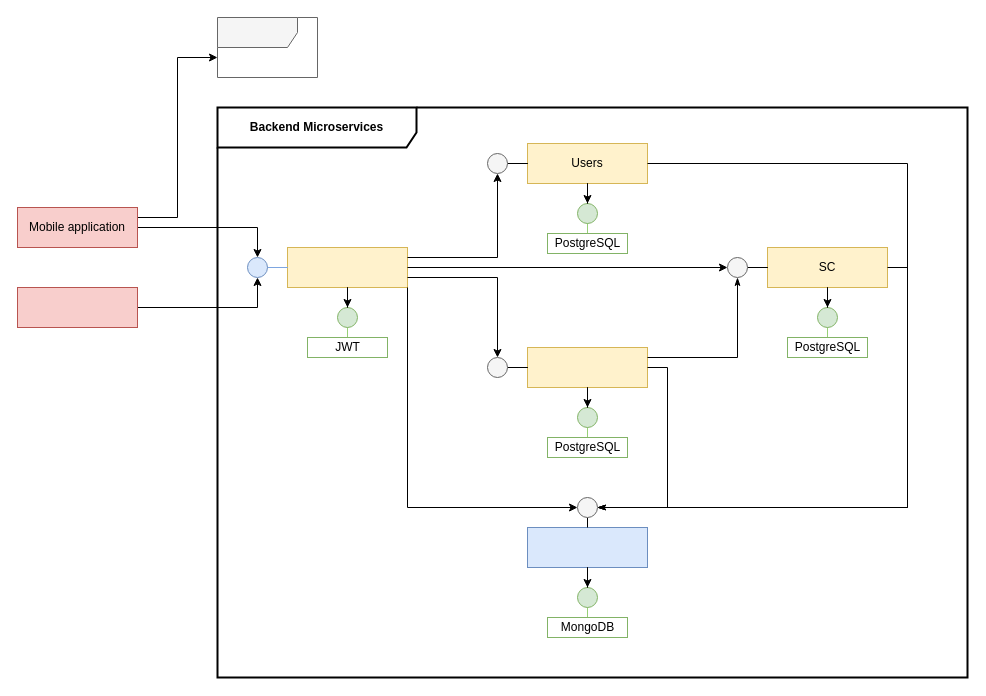
This 986x696 diagram has some shape labels left out. The shapes that lost their labels are listed below. From the top down, each one's centre as x and y in pixels, then its label:
point (267, 47): Firebase
point (347, 267): API Gateway
point (77, 307): Backoffice Web
point (587, 367): Core
point (587, 547): API Keys
